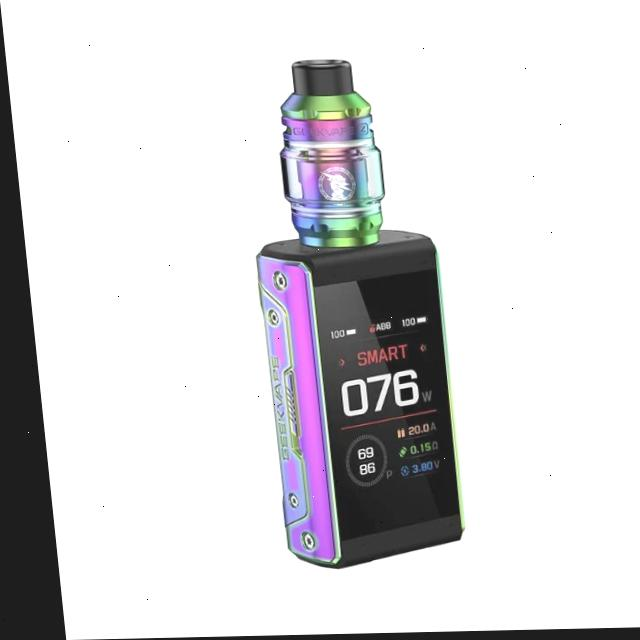vape: (231, 58, 459, 573)
